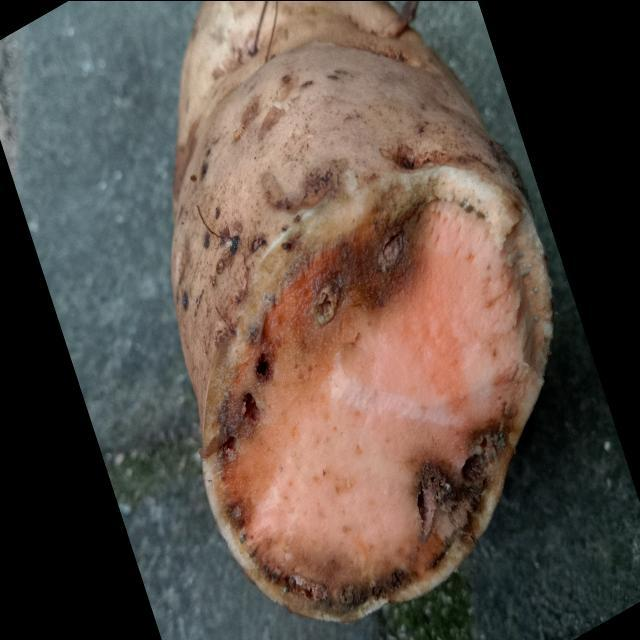Sick Sweet Potato_Tuber Rot: (202, 198, 552, 620)
